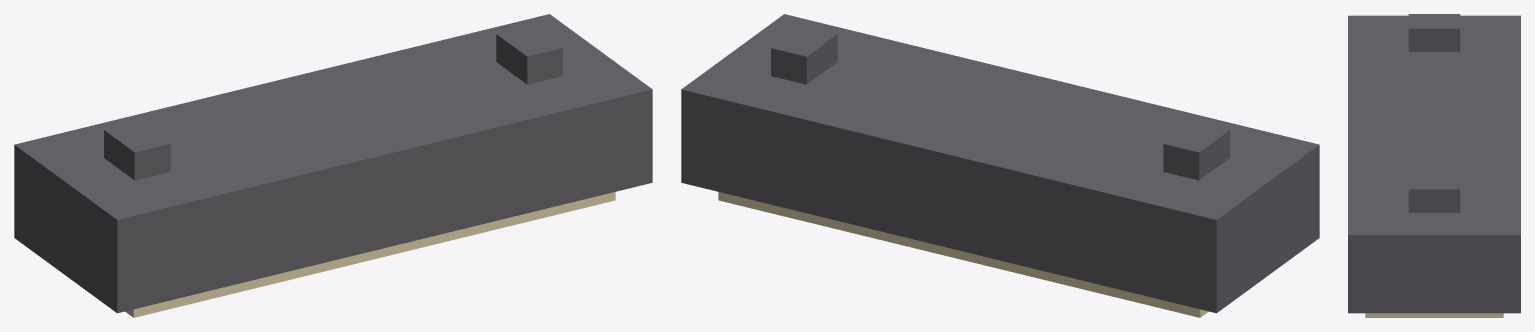
Rendered from SM_P2_Service_Light_A.obj.
3 renders of one model, left to right at view 1: azimuth 30°, elevation 25°; view 2: azimuth 150°, elevation 25°; view 3: azimuth 270°, elevation 25°, orthographic. The views are drawn at different scales.
Parts seen in each view (by area): view 1: housing, diffuser, mount_b, mount_a; view 2: housing, diffuser, mount_b, mount_a; view 3: housing, mount_b, mount_a, diffuser.
Boxes of the visible parts, left/top/right/bottom form: housing: left=14, top=14, right=652, bottom=313; diffuser: left=125, top=192, right=615, bottom=317; mount_b: left=496, top=25, right=562, bottom=84; mount_a: left=104, top=121, right=170, bottom=180; housing: left=681, top=14, right=1319, bottom=313; diffuser: left=718, top=192, right=1208, bottom=317; mount_b: left=771, top=25, right=837, bottom=84; mount_a: left=1163, top=121, right=1229, bottom=180; housing: left=1348, top=15, right=1520, bottom=313; mount_b: left=1408, top=174, right=1460, bottom=212; mount_a: left=1408, top=14, right=1460, bottom=51; diffuser: left=1365, top=313, right=1503, bottom=317.
Bounding box in the file's own units: 0.6 × 0.15 × 0.2.
